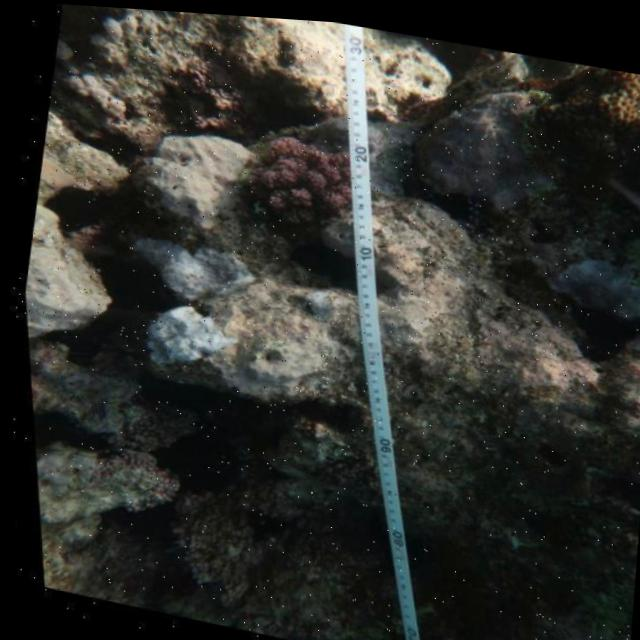Healthy Coral: (213, 103, 374, 252), (500, 44, 640, 179)
